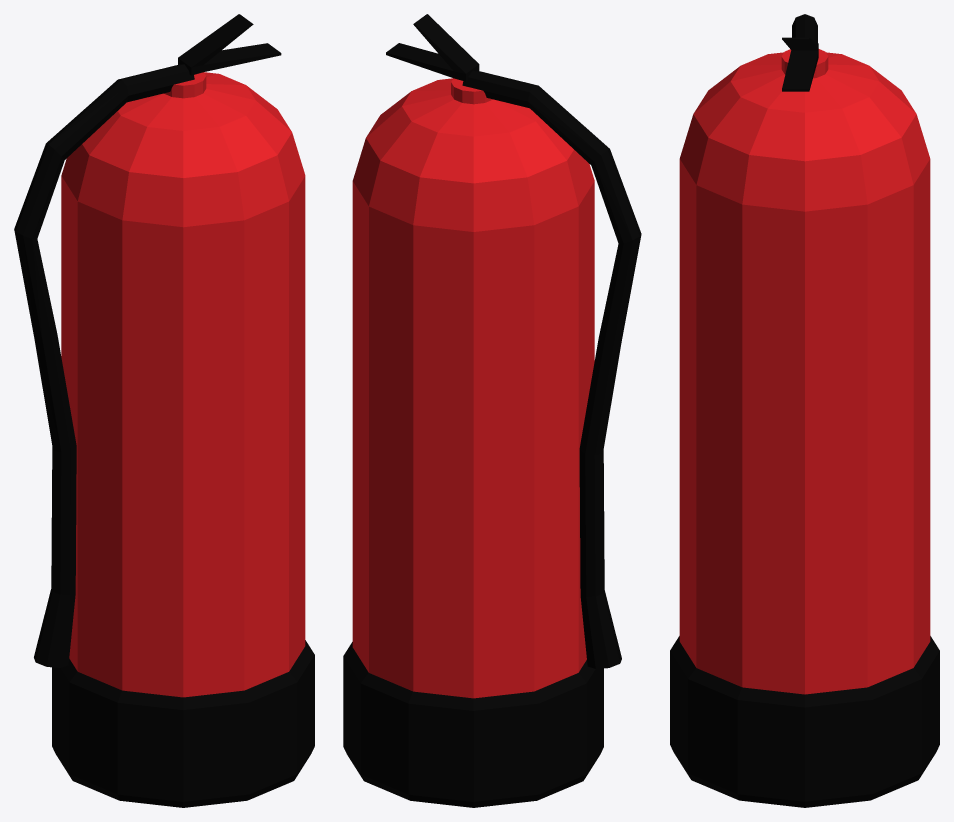
3 views of the same model, side by side, from view 1: azimuth 30°, elevation 25°; view 2: azimuth 150°, elevation 25°; view 3: azimuth 270°, elevation 25° (orthographic). The views are drawn at different scales.
Parts seen in each view (by area): view 1: Extintor.004; view 2: Extintor.004; view 3: Extintor.004.
Boxes of the visible parts, x1,y1,x2,y2 form: Extintor.004: (14,14,314,807); Extintor.004: (343,14,641,807); Extintor.004: (670,14,939,807).
Size of the model in its own units: 0.2664 by 0.2153 by 0.6577.
